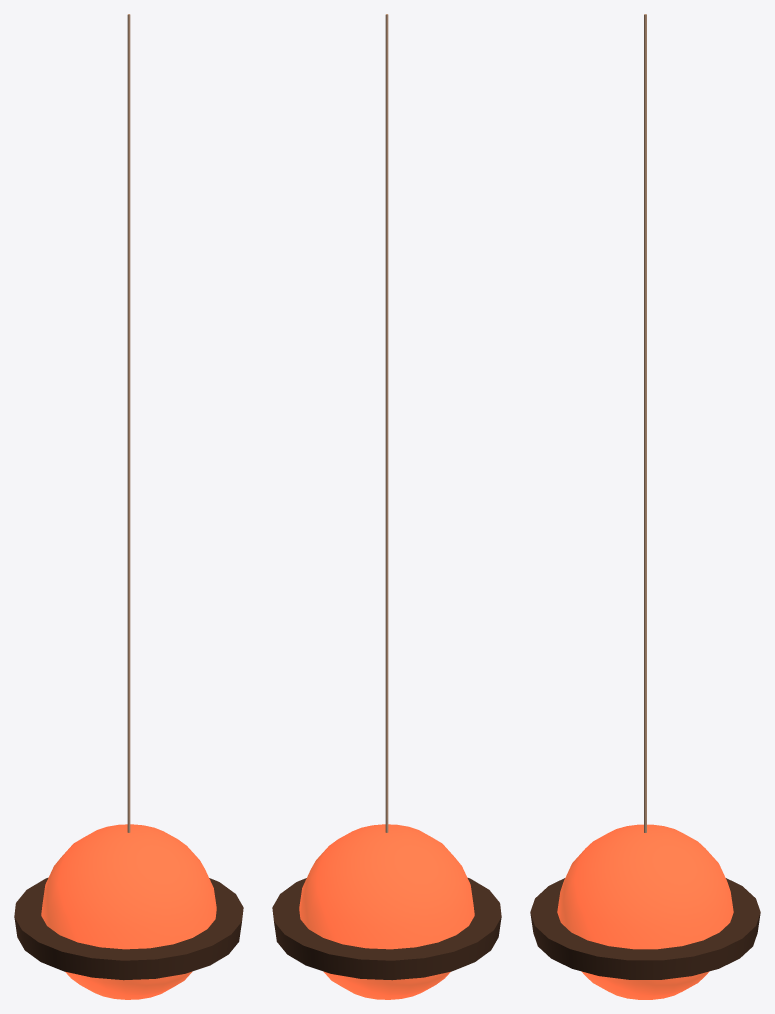
Rendered from Luce 1 Arancio .fbx.
3 views of the same model, side by side, from view 1: azimuth 30°, elevation 25°; view 2: azimuth 150°, elevation 25°; view 3: azimuth 270°, elevation 25° (orthographic).
Visible parts, largest first — view 1: Sphere.026; view 2: Sphere.026; view 3: Sphere.026.
Part boxes in pixels (x1,y1,x2,y2): Sphere.026: (14, 14, 243, 999); Sphere.026: (272, 14, 501, 999); Sphere.026: (530, 14, 760, 999).
Size of the model in its own units: 49.96 by 236 by 50.47.
